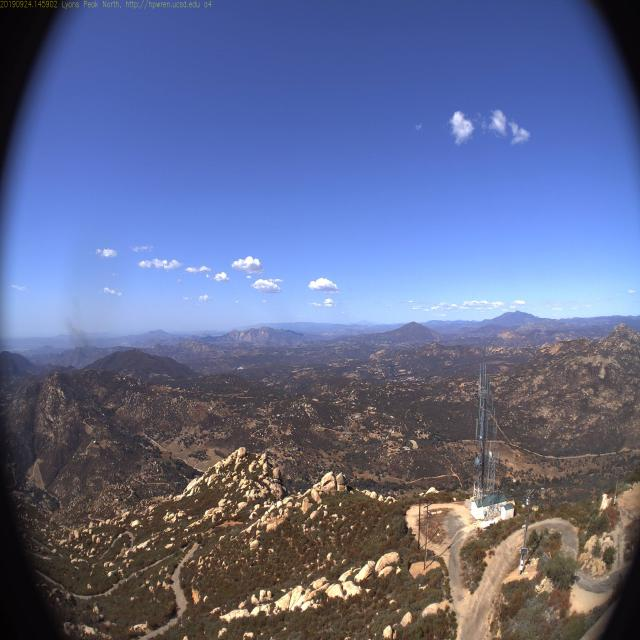smoke: (57, 315, 114, 375)
